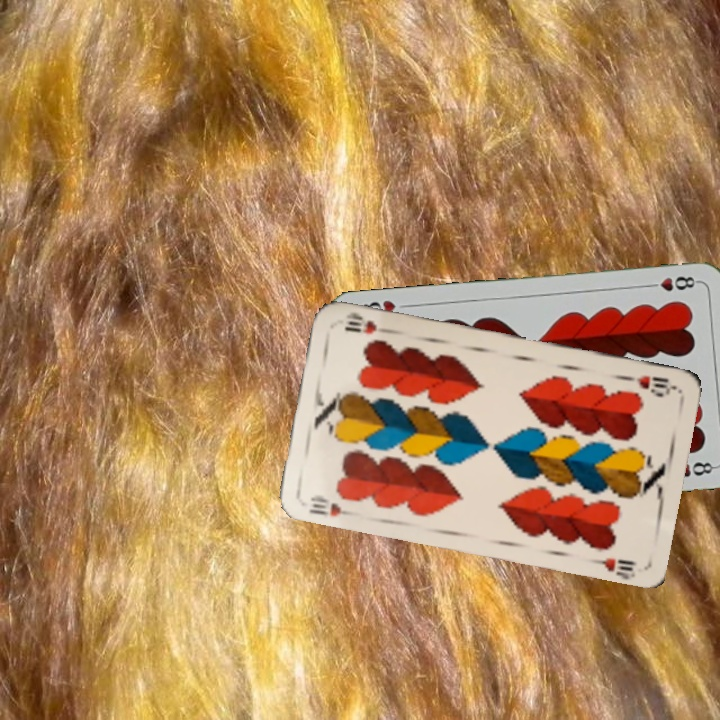H10: (305, 490, 358, 519), (619, 371, 678, 397)
H8: (643, 272, 702, 294)
